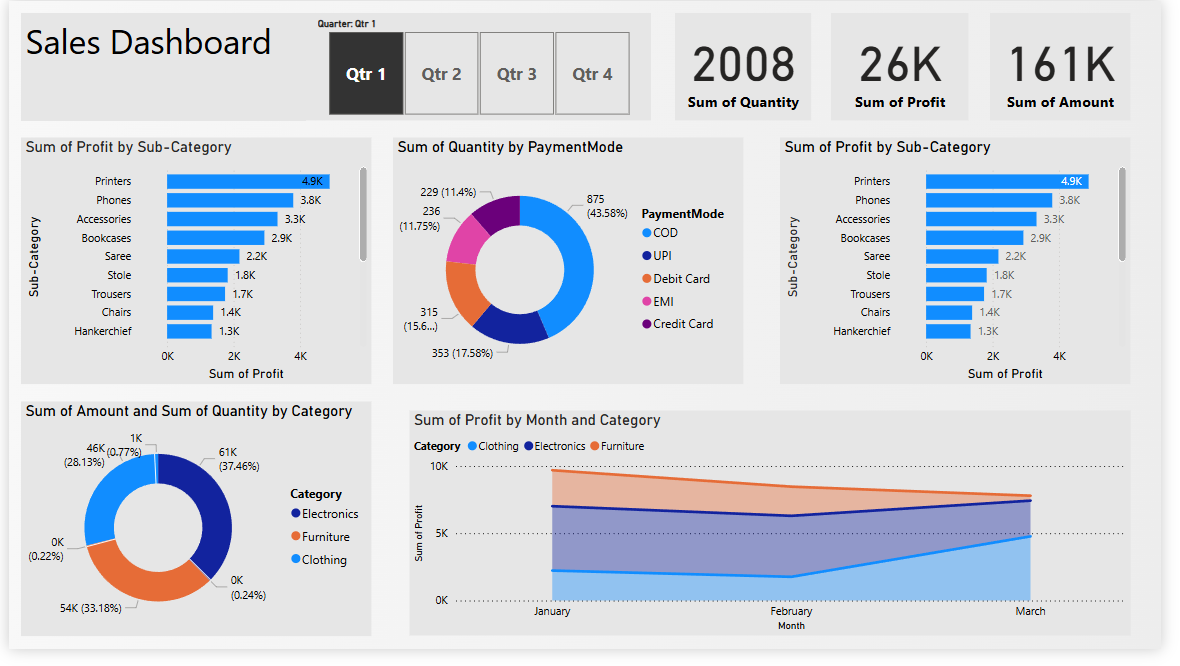

This screenshot's page, from the dashboard's own definition file:
{"tool":"powerbi","page":{"name":"Sales_Dashboard","canvas":[1280,720],"ordinal":0},"visuals":[{"type":"textbox","box":[13.3,13.3,316.7,120],"z":0},{"type":"card","fields":{"Values":["Sum(Details.Quantity)"]},"box":[740.4,13.6,151.4,119.6],"z":1000},{"type":"card","fields":{"Values":["Sum(Details.Profit)"]},"box":[913.1,13.6,152.9,119.6],"z":2000},{"type":"card","fields":{"Values":["Sum(Details.Amount)"]},"box":[1090.2,13.6,156,119.6],"z":3000},{"type":"barChart","fields":{"Y":["Sum(Details.Profit)"],"Category":["Details.Sub-Category"]},"box":[13.6,151.4,389.2,274.1],"z":4000},{"type":"donutChart","fields":{"Category":["Details.PaymentMode"],"Y":["Sum(Details.Quantity)"]},"box":[427,151.4,389.2,274.1],"z":5000},{"type":"pieChart","fields":{"Category":["Details.Category"],"Y":["Sum(Details.Profit)"]},"box":[856.7,151.7,390,273.3],"z":6000},{"type":"donutChart","fields":{"Y":["Sum(Details.Amount)","Sum(Details.Quantity)"],"Category":["Details.Category"]},"box":[13.6,445.2,389.2,260.4],"z":7000},{"type":"stackedAreaChart","fields":{"Category":["Orders.Order Date.Variation.Date Hierarchy.Month"],"Y":["Sum(Details.Profit)"],"Series":["Details.Category"]},"box":[445.2,455.8,801,249.8],"z":8000},{"type":"slicer","fields":{"Values":["Orders.Order Date.Variation.Date Hierarchy.Quarter"]},"box":[330.1,13.6,383.1,119.6],"z":9000}]}

Visuals, with their boxes in screenshot pixels (x1, y1, x2, y2), scaled from the page's 1280x720 canvas onto the 1180x666 screenshot:
textbox: BBox(12, 12, 304, 123)
card - Sum(Details.Quantity): BBox(683, 13, 822, 123)
card - Sum(Details.Profit): BBox(842, 13, 983, 123)
card - Sum(Details.Amount): BBox(1005, 13, 1149, 123)
barChart - Sum(Details.Profit) x Details.Sub-Category: BBox(13, 140, 371, 394)
donutChart - Details.PaymentMode x Sum(Details.Quantity): BBox(394, 140, 752, 394)
pieChart - Details.Category x Sum(Details.Profit): BBox(790, 140, 1149, 393)
donutChart - Sum(Details.Amount) x Sum(Details.Quantity): BBox(13, 412, 371, 653)
stackedAreaChart - Orders.Order Date.Variation.Date Hierarchy.Month x Sum(Details.Profit): BBox(410, 422, 1149, 653)
slicer - Orders.Order Date.Variation.Date Hierarchy.Quarter: BBox(304, 13, 657, 123)
